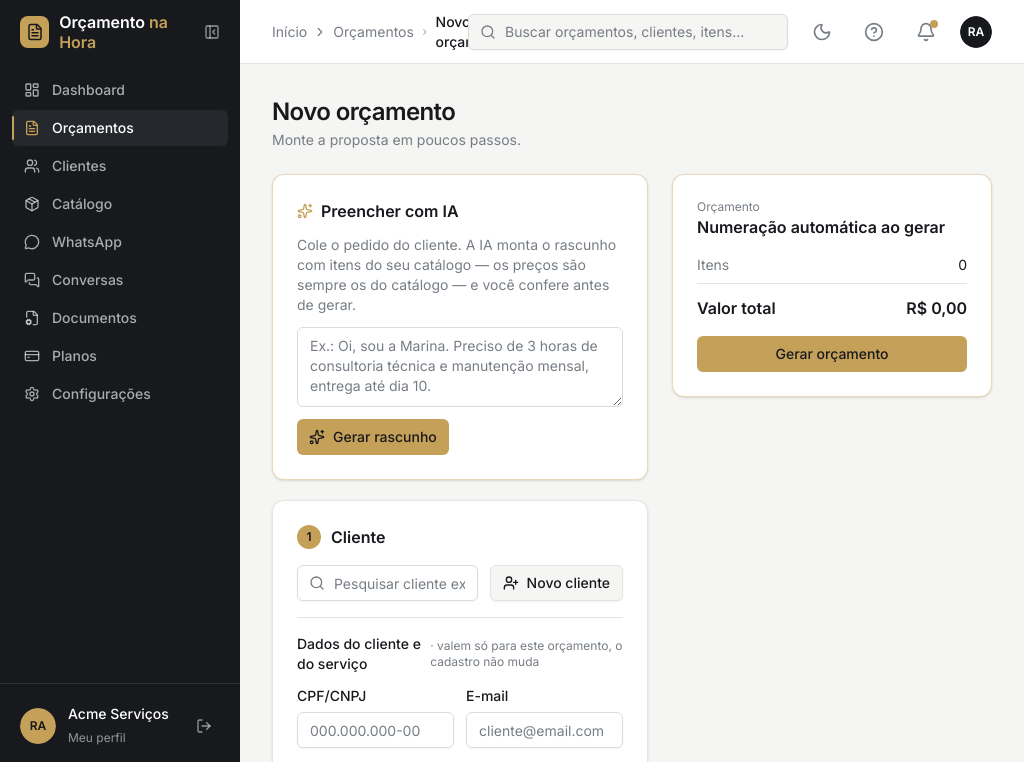
Test case: gerador de orçamento › fluxo completo calcula total e cria o orçamento na API
The image size is (1024, 762).
Type "Carlos" into the field labelled "Pesquisar cliente" at (387, 583), box [297,565,478,601]
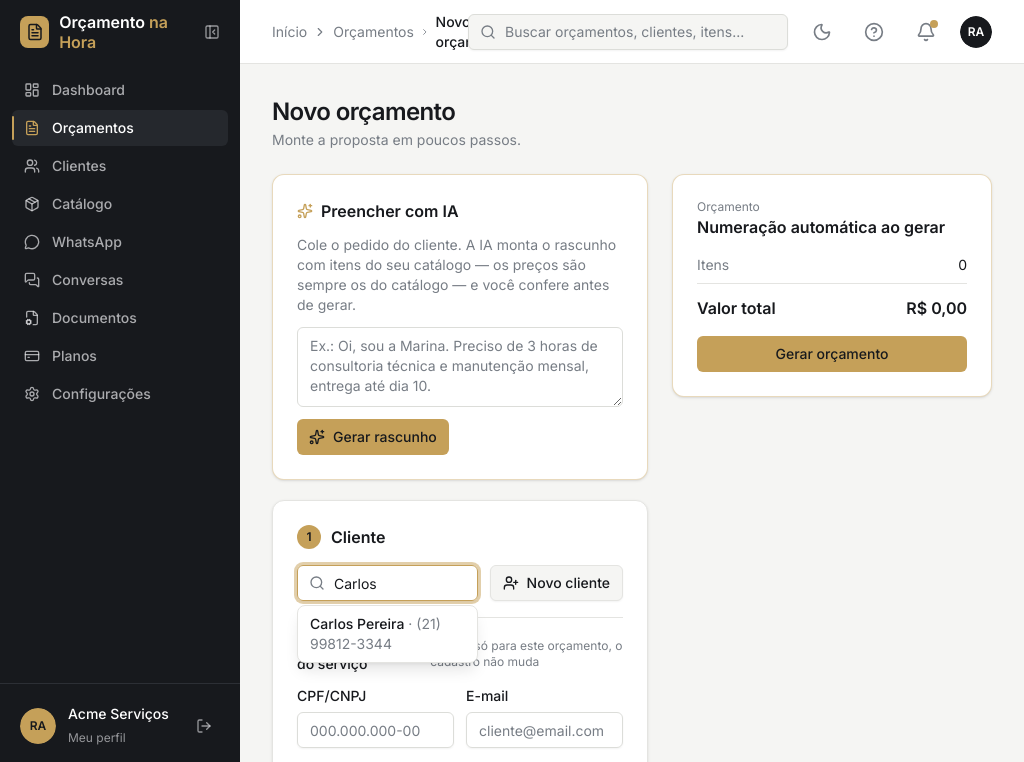
Click the button "Carlos Pereira · (21) 99812-3344" at (387, 634), box [298,606,477,662]
(page scrolled)
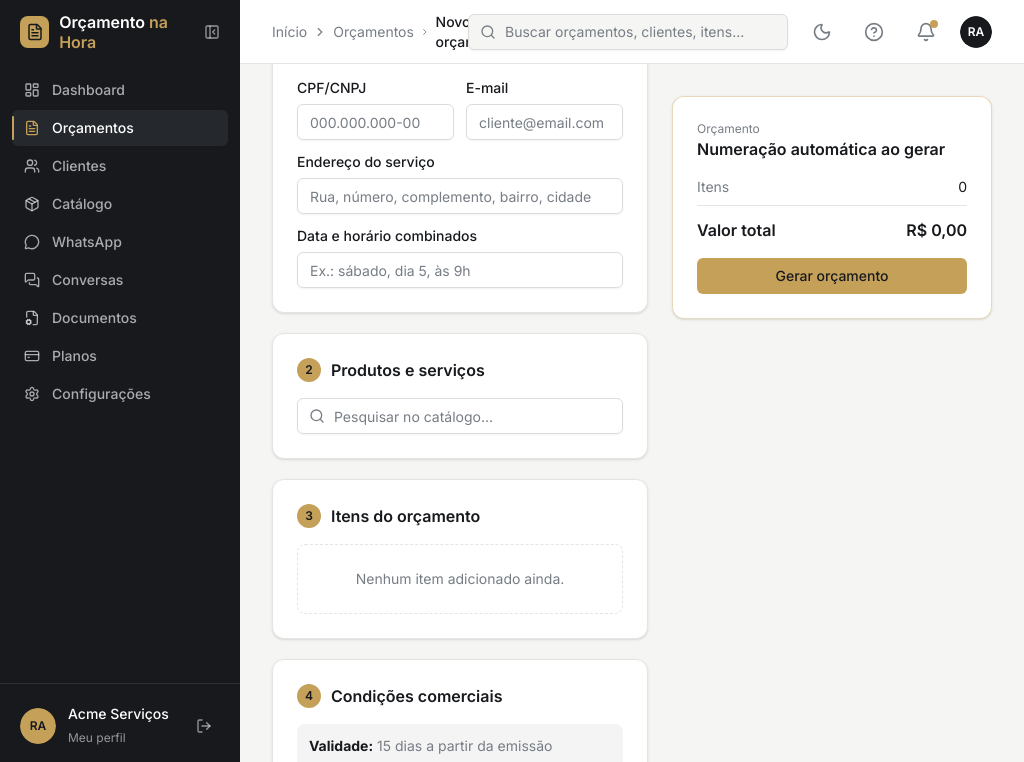
Type "Consultoria" into the field labelled "Pesquisar no catálogo" at (460, 416), box [297,398,623,434]
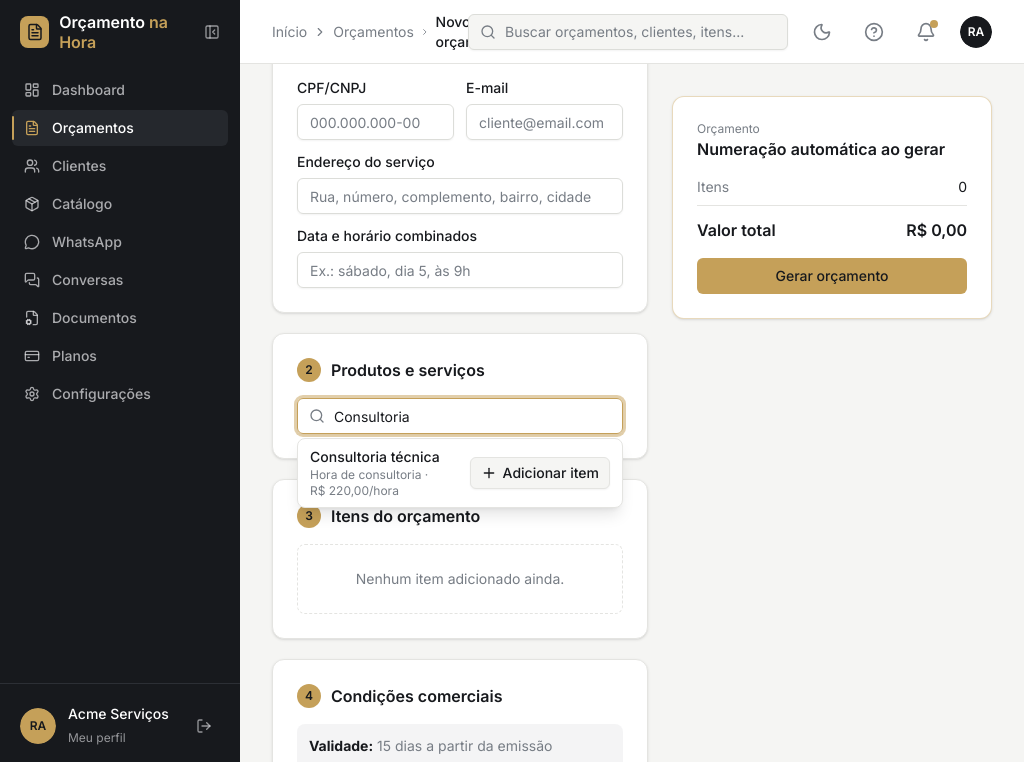
Click the button with aria-label "Adicionar Consultoria técnica" at (540, 473), box [470,457,610,489]
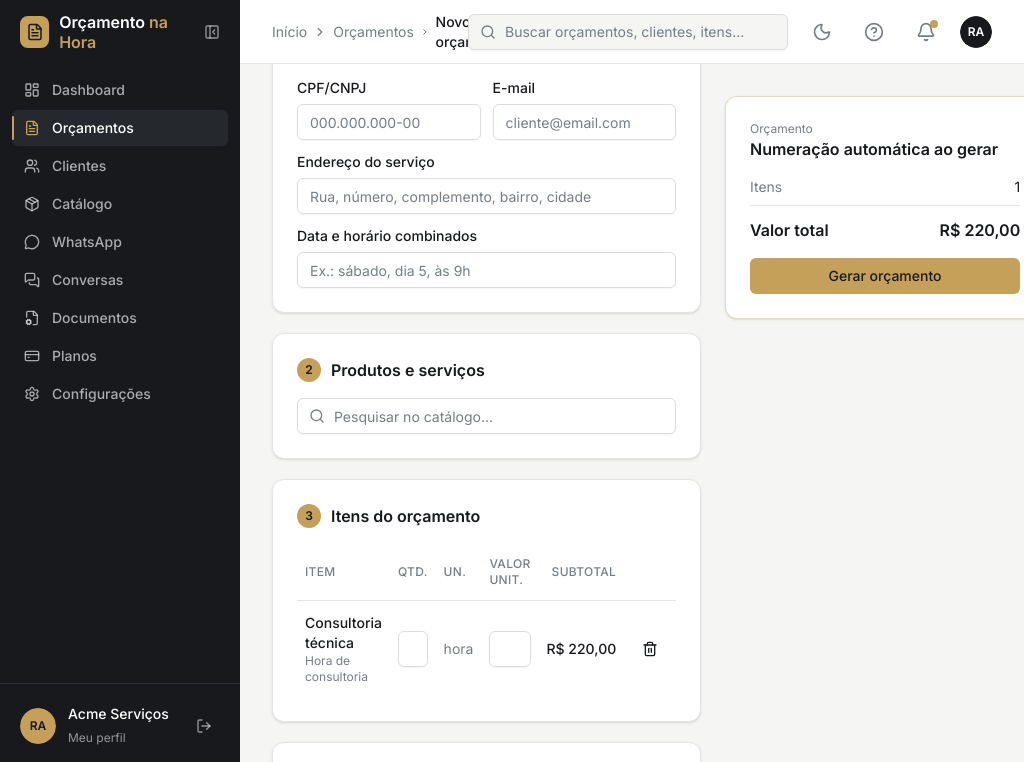
Replace the text in the number field named "Quantidade de Consultoria técnica" with "3" at (413, 649), box [398,631,428,667]
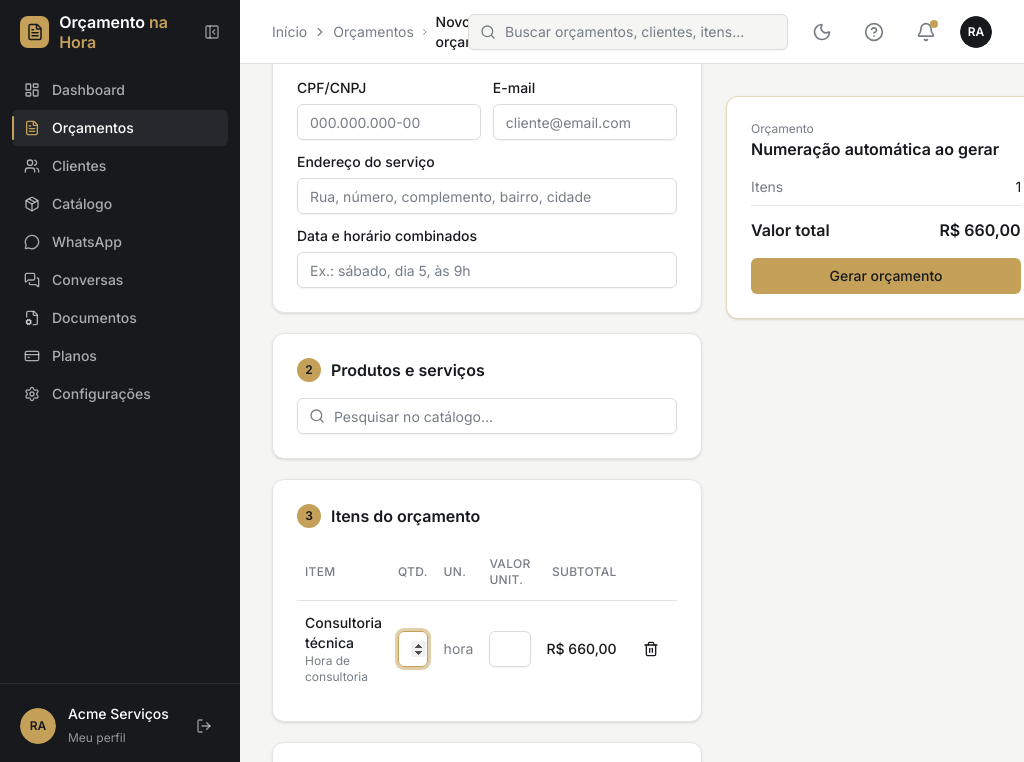
Check: the text with test id "total" shows "660,00", box [939,220,1021,240]
Click the button "Gerar orçamento" at (886, 276), box [751,258,1021,294]
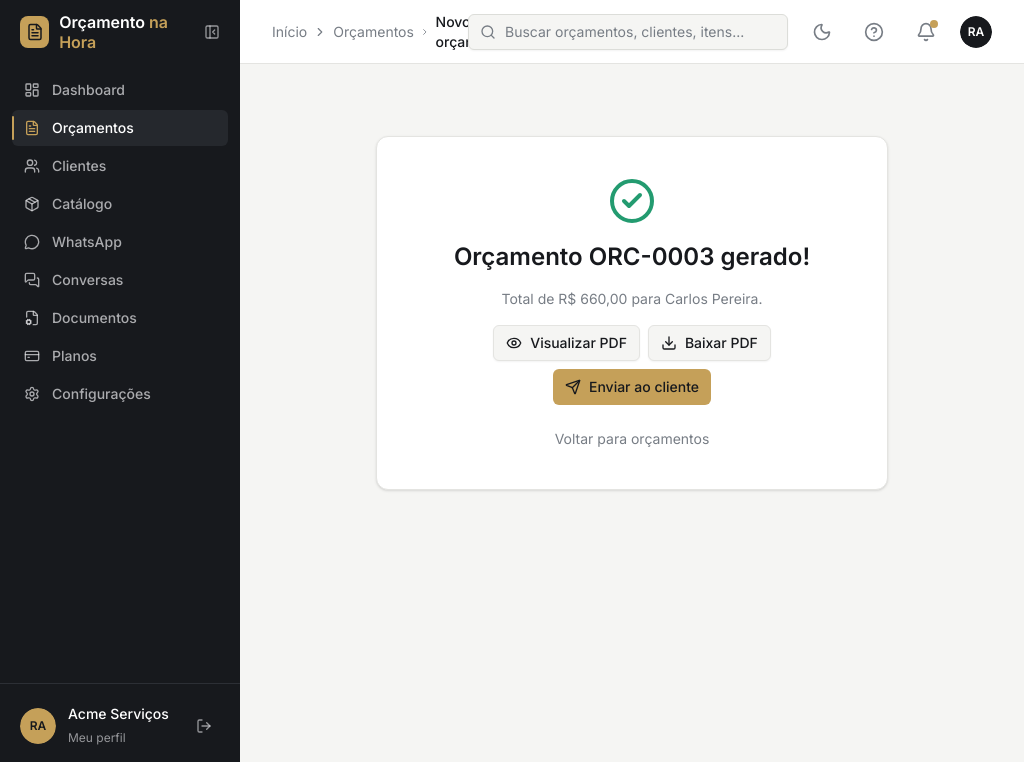
Check: the heading "Orçamento ORC-0003 gerado!" is shown, box [454,241,810,273]
Check: the button "Enviar ao cliente" is shown, box [553,369,711,405]
